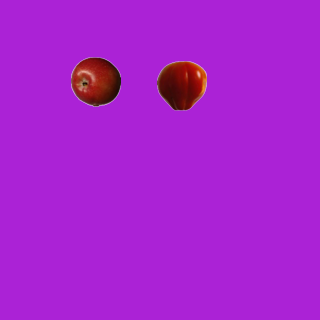Apple Braeburn: (70, 56, 120, 106)
Tomato 1: (156, 60, 206, 110)
